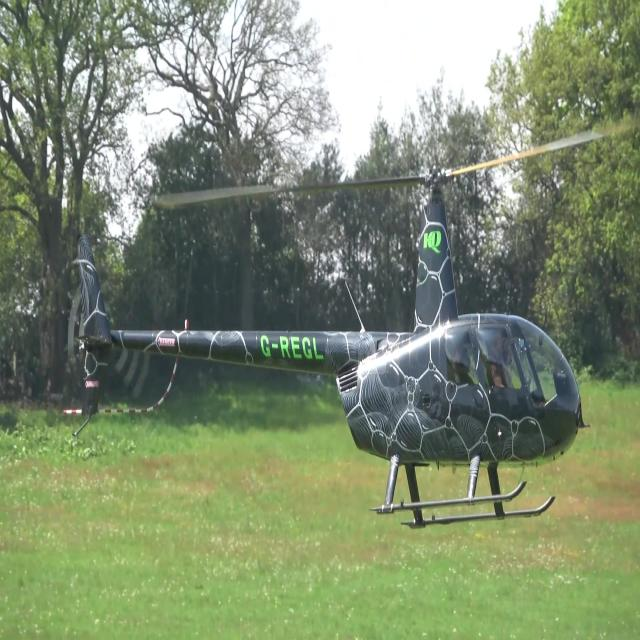CIV_HELO: (73, 164, 588, 534)
